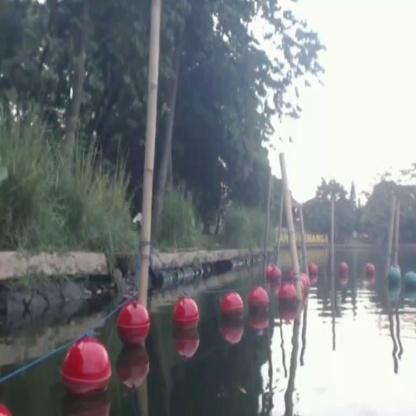green_buoy: (405, 265, 415, 293), (388, 264, 400, 286)
red_buoy: (64, 340, 112, 398), (118, 303, 150, 347), (174, 296, 200, 335), (222, 292, 242, 326), (251, 288, 270, 319), (281, 282, 296, 313), (364, 262, 376, 282), (302, 271, 310, 296), (339, 259, 348, 280), (270, 265, 281, 282), (310, 260, 320, 278)
